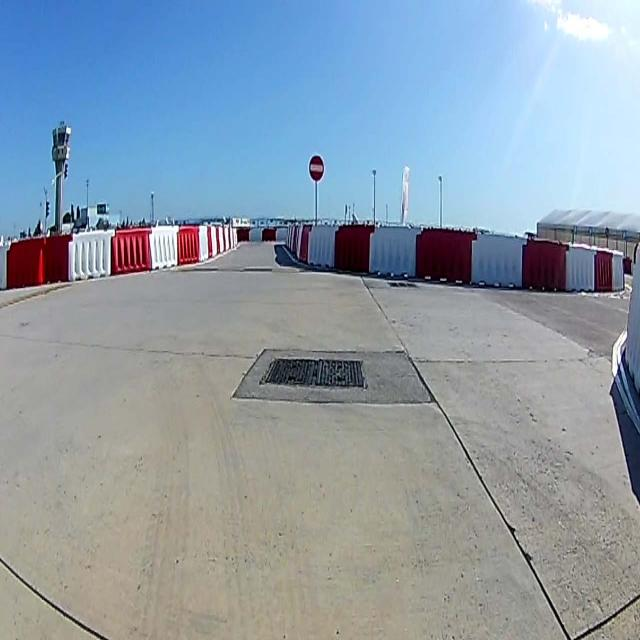girisyok: (308, 155, 324, 182)
